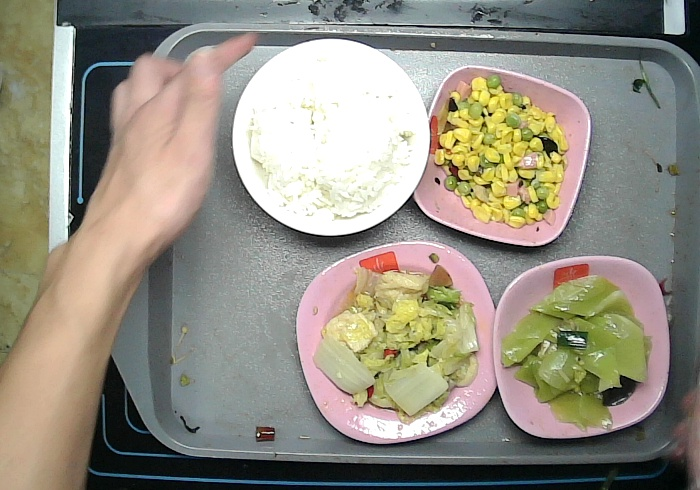SHKJ-Fan_Wan: (228, 34, 436, 242)
SHKJ-Fen_Se_Cai_Die: (487, 253, 677, 441)
SHKJ-Fen_Se_Si_Fang_Cai_Die: (288, 238, 507, 447)
SHKJ-Fen_Se_Xiao_Fang_Die: (411, 62, 597, 255)
